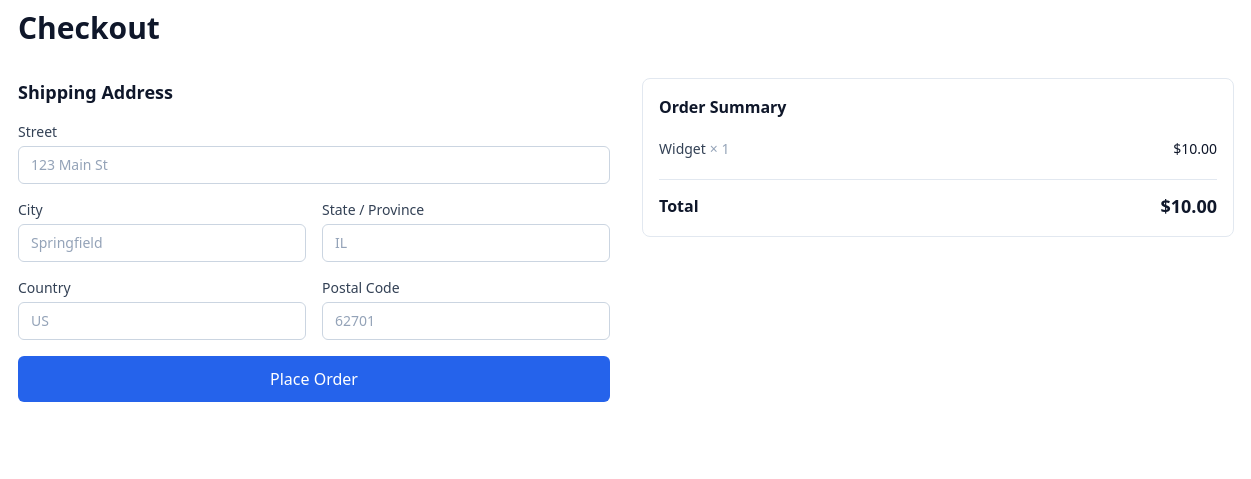
Test: CheckoutPage — validation › shows validation errors on empty submit
Click the button "Place Order".
click(314, 379)  # box [18,356,610,402]
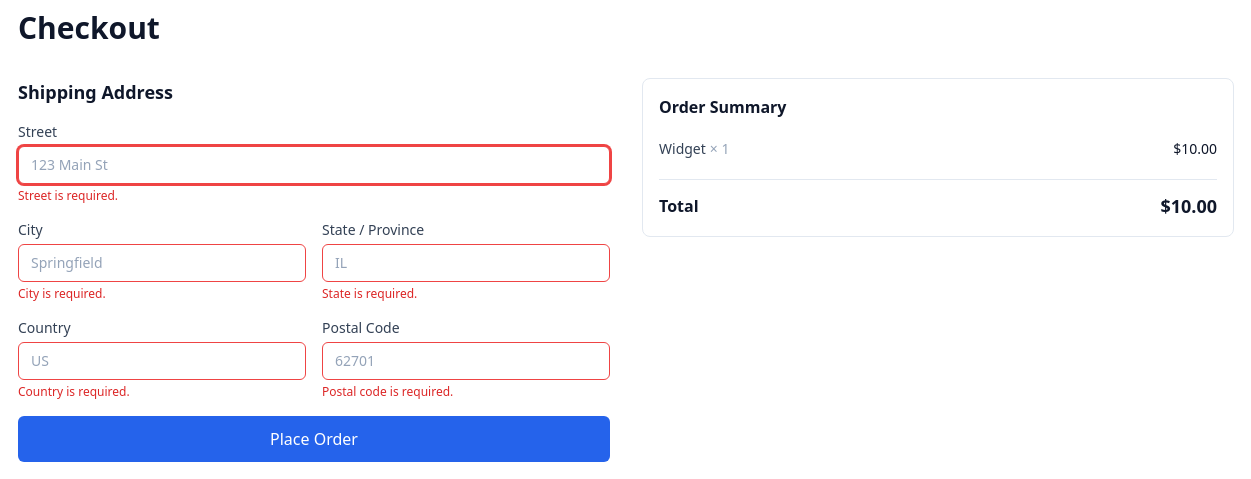
Result: the text "Street is required." is shown at [18,187,118,204]
